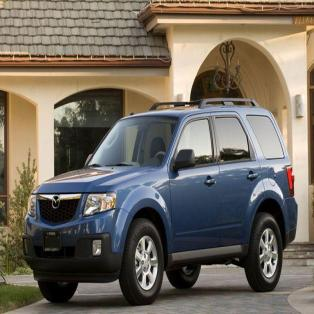Auto: (21, 97, 298, 304)
